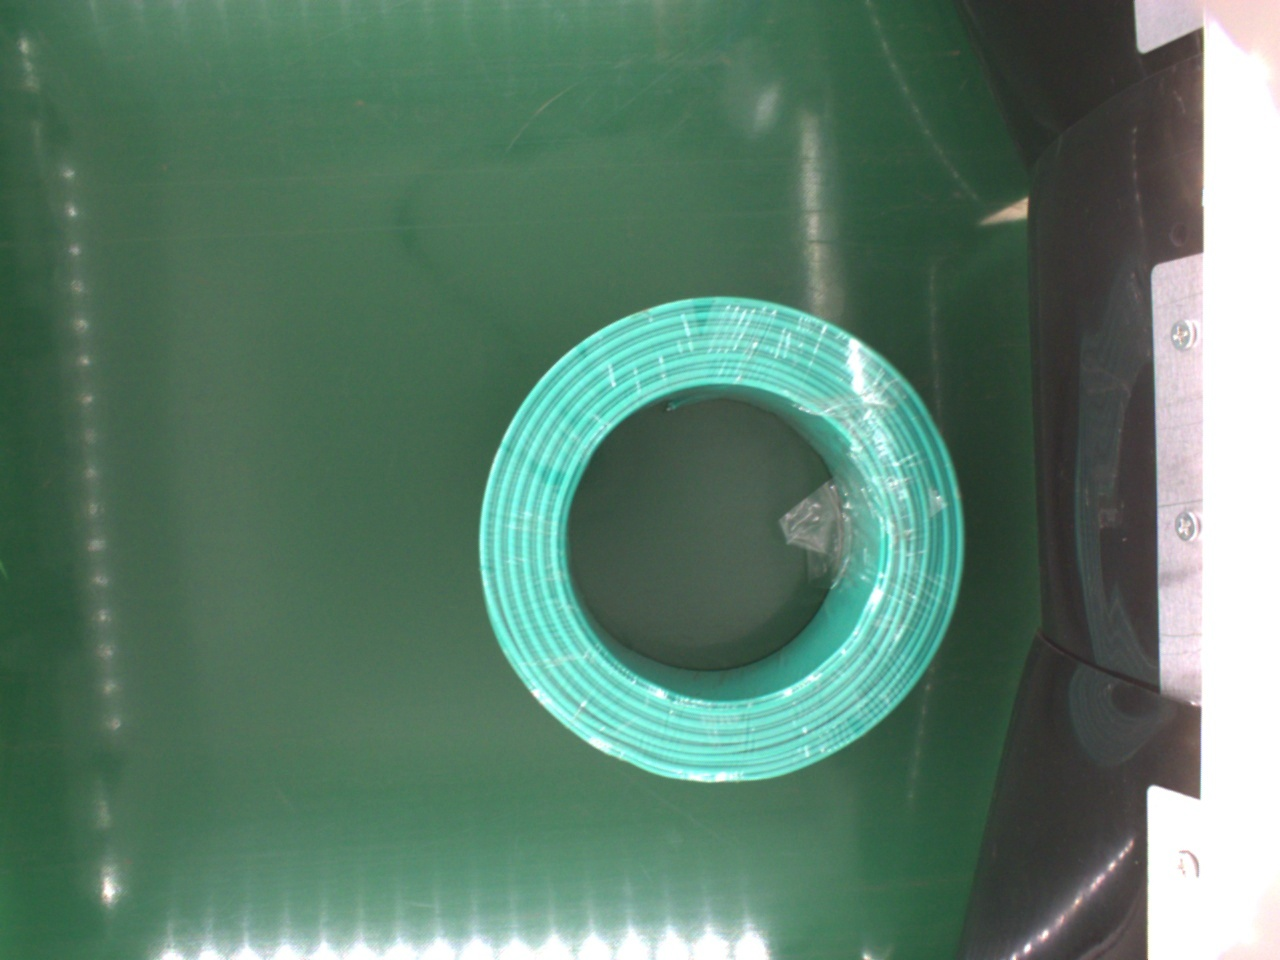green: (475, 298, 962, 787)
